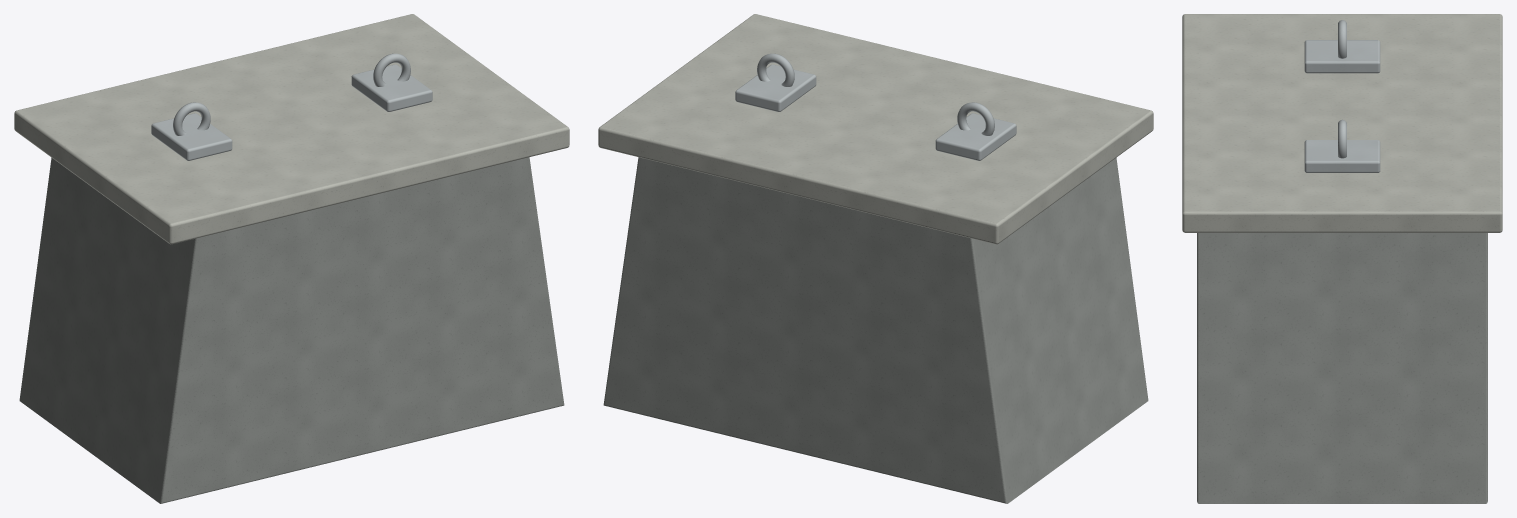
The model's file is gorgehold-survivor-gallery-and-operations-footbridge-c-196fd706__32881.glb.
3 views of the same model, side by side, from view 1: azimuth 30°, elevation 25°; view 2: azimuth 150°, elevation 25°; view 3: azimuth 270°, elevation 25° (orthographic). The views are drawn at different scales.
Visible parts, largest first — view 1: footbridge-cliff-abutment; view 2: footbridge-cliff-abutment; view 3: footbridge-cliff-abutment.
Boxes of the visible parts, <box> form: footbridge-cliff-abutment: <box>14,14,569,503</box>; footbridge-cliff-abutment: <box>598,14,1153,503</box>; footbridge-cliff-abutment: <box>1182,14,1502,503</box>.
Bounding box in the file's own units: 2.83 × 2.17 × 1.9.
Materials: 3 (3 with a texture image).
